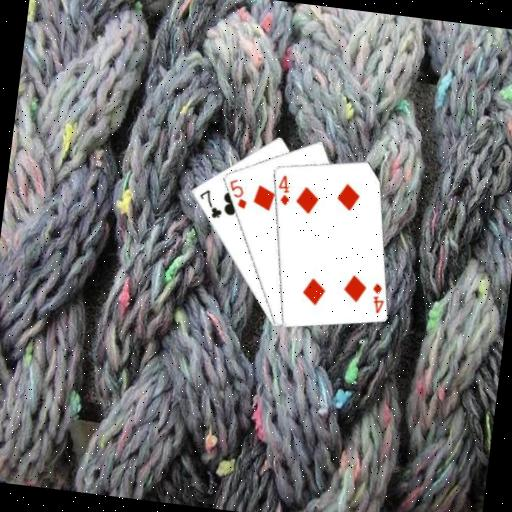4D: (367, 279, 388, 316), (273, 172, 294, 208)
5D: (224, 175, 251, 211)
7C: (194, 185, 226, 221)
